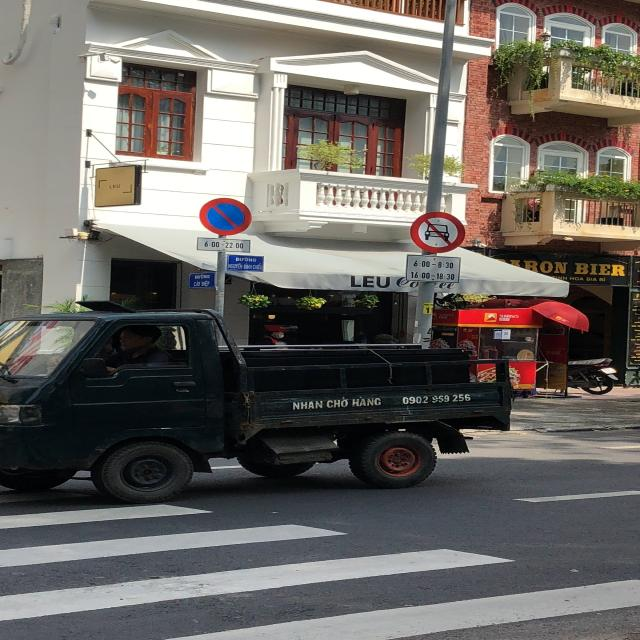Bien bao cam do xe: (196, 196, 263, 238)
Bien bao cam xe oto: (409, 207, 475, 253)
